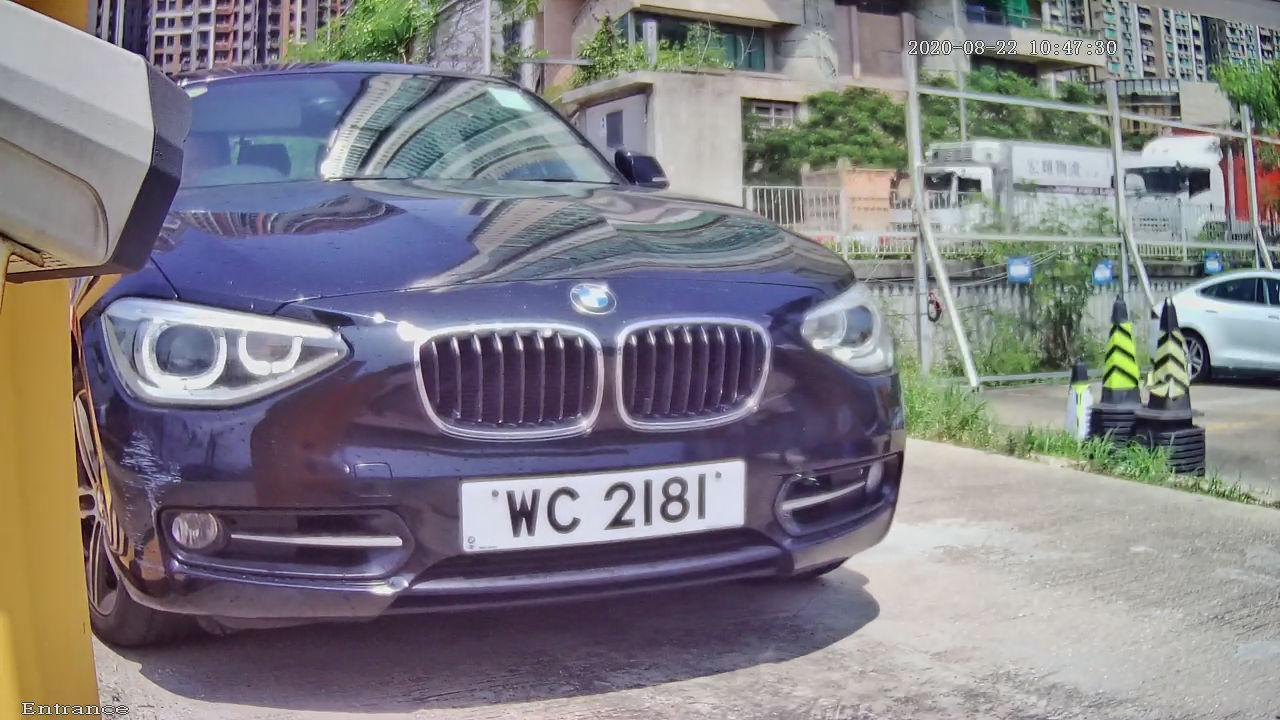License Plate: (446, 454, 755, 557)
